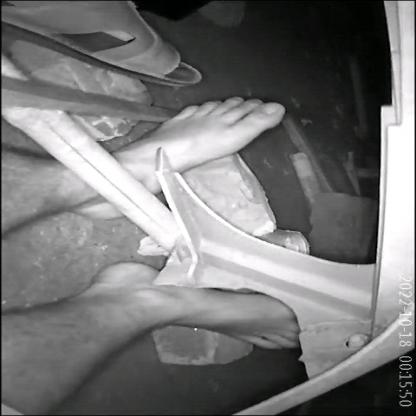leg: (0, 247, 305, 416), (0, 89, 291, 246)
